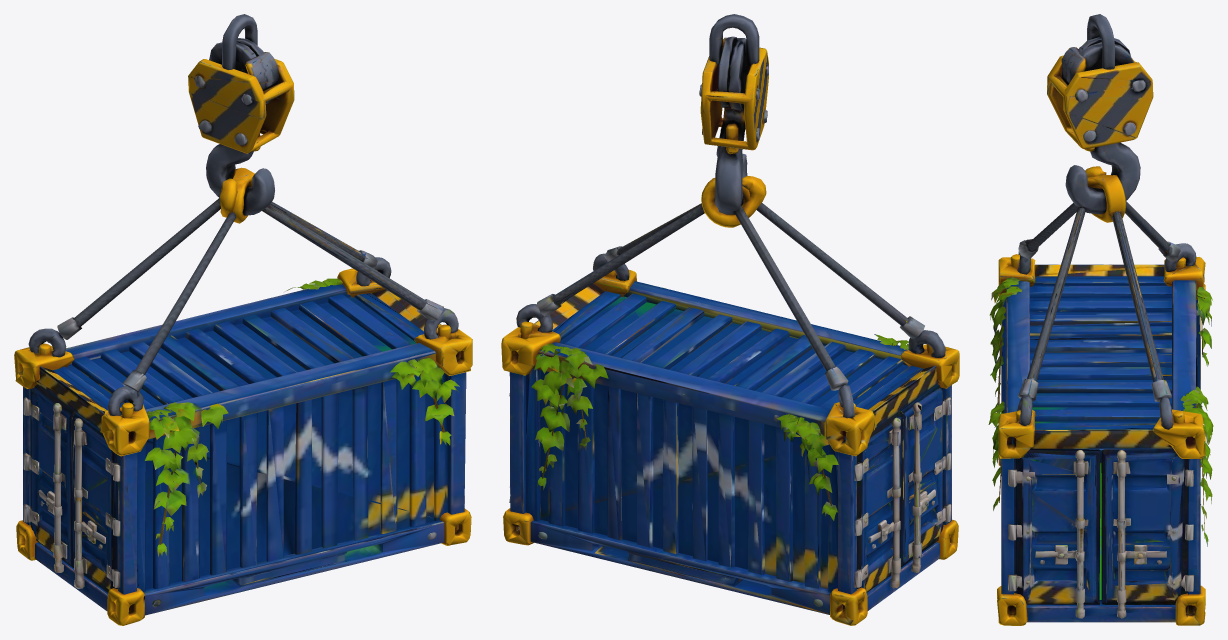
The model's file is hanging_container.glb.
3 renders of one model, left to right at view 1: azimuth 30°, elevation 25°; view 2: azimuth 150°, elevation 25°; view 3: azimuth 270°, elevation 25°, orthographic.
Size of what is drawn, in the model's own units: 0.7083 by 1 by 0.3891.
Materials: 1 (1 with a texture image).
